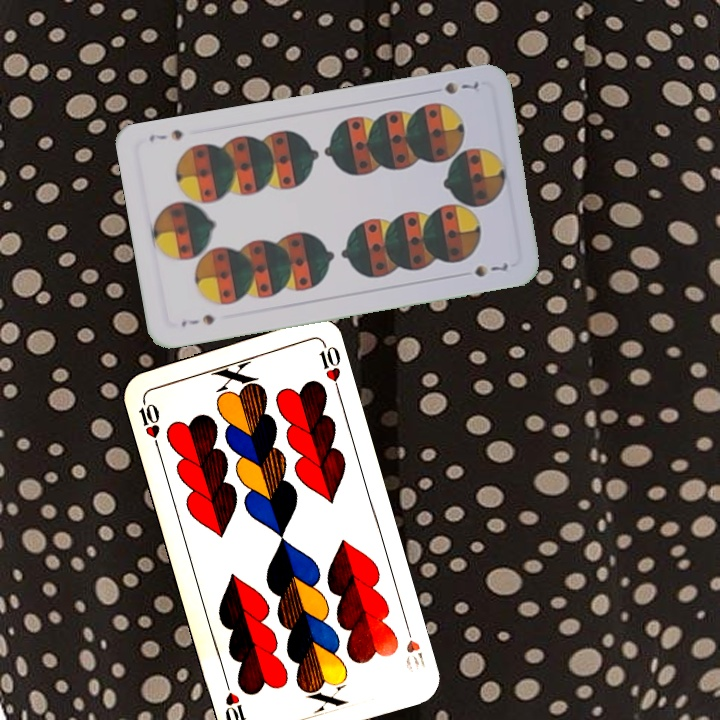H10: (134, 392, 163, 451), (401, 619, 428, 669)
S7: (440, 77, 484, 97), (177, 310, 217, 330)
